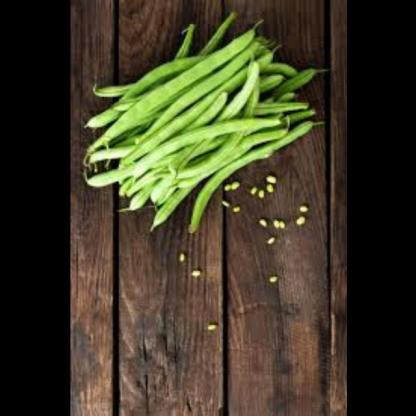beans: (75, 16, 302, 232), (247, 172, 276, 199), (254, 216, 286, 230), (221, 200, 244, 213), (263, 273, 283, 285), (200, 320, 217, 334), (258, 236, 280, 246), (222, 182, 239, 193), (290, 214, 304, 227), (176, 247, 184, 266), (189, 270, 200, 281), (294, 203, 305, 213)
